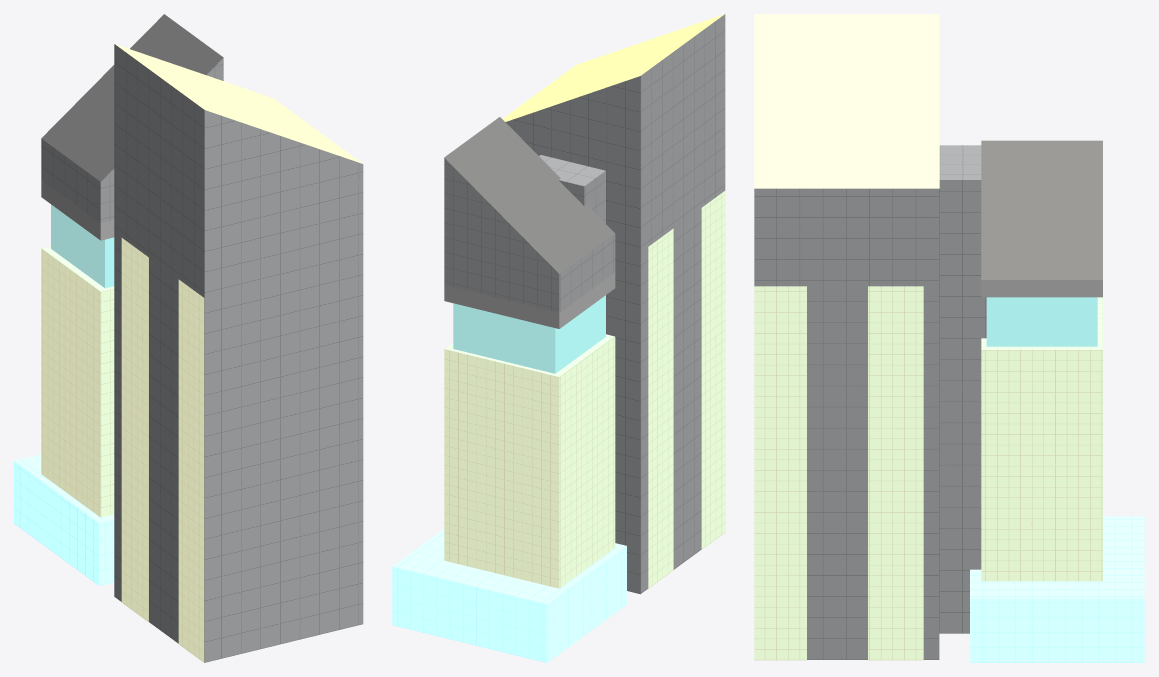
The model's file is telecom_tower_ufone_far.glb.
3 views of the same model, side by side, from view 1: azimuth 30°, elevation 25°; view 2: azimuth 150°, elevation 25°; view 3: azimuth 270°, elevation 25° (orthographic). The views are drawn at different scales.
Visible parts, largest first — view 1: m_flank_grey, m_shaft_glass, m_flat_roof, m_podium_glass, m_roof_glass, m_drum_glass, m_floor_fascia, m_wedge_panel; view 2: m_shaft_glass, m_flank_grey, m_podium_glass, m_flat_roof, m_wedge_panel, m_drum_glass, m_roof_glass, m_floor_fascia; view 3: m_shaft_glass, m_flank_grey, m_roof_glass, m_podium_glass, m_strip_white, m_drum_glass, m_floor_fascia.
Part boxes in pixels (bbox=[...]): m_flank_grey: bbox=[41, 44, 363, 662]; m_shaft_glass: bbox=[41, 238, 204, 662]; m_flat_roof: bbox=[41, 14, 223, 181]; m_podium_glass: bbox=[14, 454, 114, 585]; m_roof_glass: bbox=[115, 44, 362, 163]; m_drum_glass: bbox=[51, 204, 114, 288]; m_floor_fascia: bbox=[41, 180, 114, 240]; m_wedge_panel: bbox=[100, 58, 223, 223]; m_shaft_glass: bbox=[444, 190, 725, 588]; m_flank_grey: bbox=[505, 14, 725, 594]; m_podium_glass: bbox=[392, 529, 626, 662]; m_flat_roof: bbox=[444, 117, 614, 273]; m_wedge_panel: bbox=[444, 158, 559, 312]; m_drum_glass: bbox=[453, 295, 605, 373]; m_roof_glass: bbox=[502, 14, 724, 121]; m_floor_fascia: bbox=[444, 272, 615, 328]; m_shaft_glass: bbox=[754, 286, 1102, 660]; m_flank_grey: bbox=[754, 145, 986, 659]; m_roof_glass: bbox=[754, 14, 939, 188]; m_podium_glass: bbox=[970, 516, 1144, 662]; m_strip_white: bbox=[981, 140, 1102, 279]; m_drum_glass: bbox=[986, 297, 1097, 346]; m_floor_fascia: bbox=[981, 280, 1102, 297].
Size of the model in its own units: 35.33 by 113 by 70.52.
9 materials, 4 textured.
